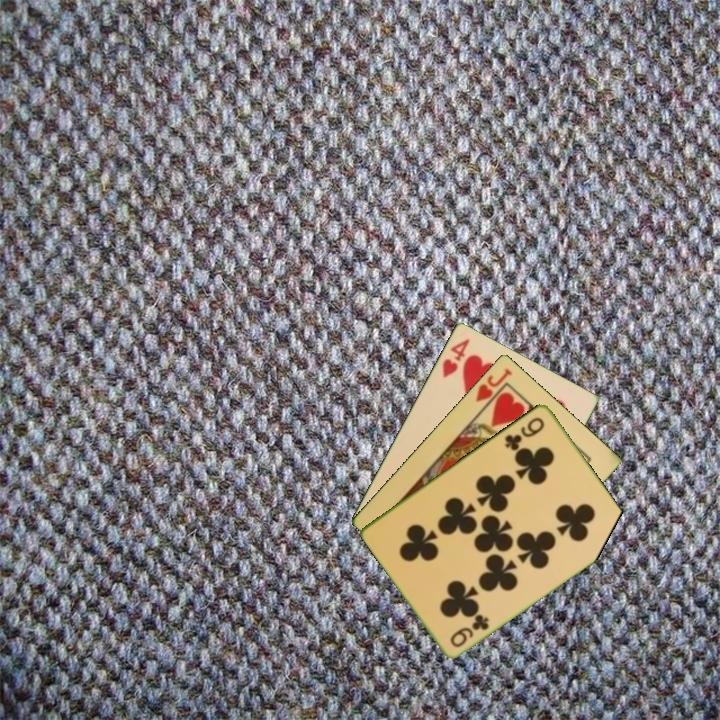4h: (439, 334, 473, 381)
9c: (501, 413, 548, 453), (447, 610, 492, 650)
Jh: (472, 364, 515, 404)
